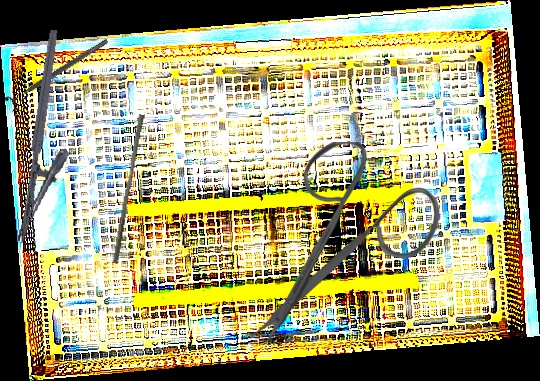Fixation Ring: (2, 33, 113, 113)
Iris Scissors: (252, 142, 440, 345)
Needle Holder: (15, 29, 88, 248)
Pusher: (112, 113, 145, 265)
